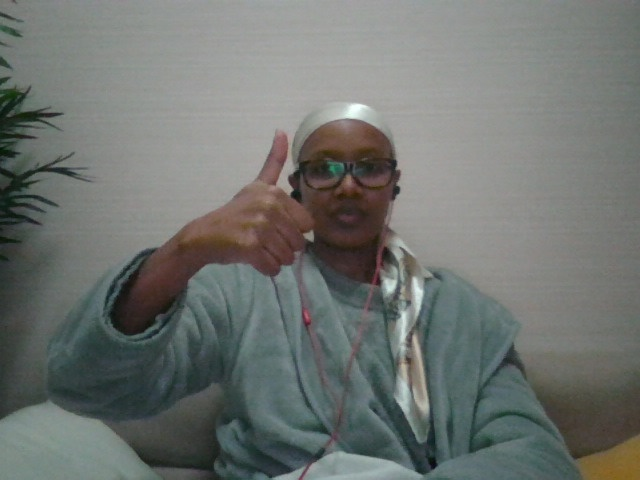goodjob: (176, 122, 323, 283)
